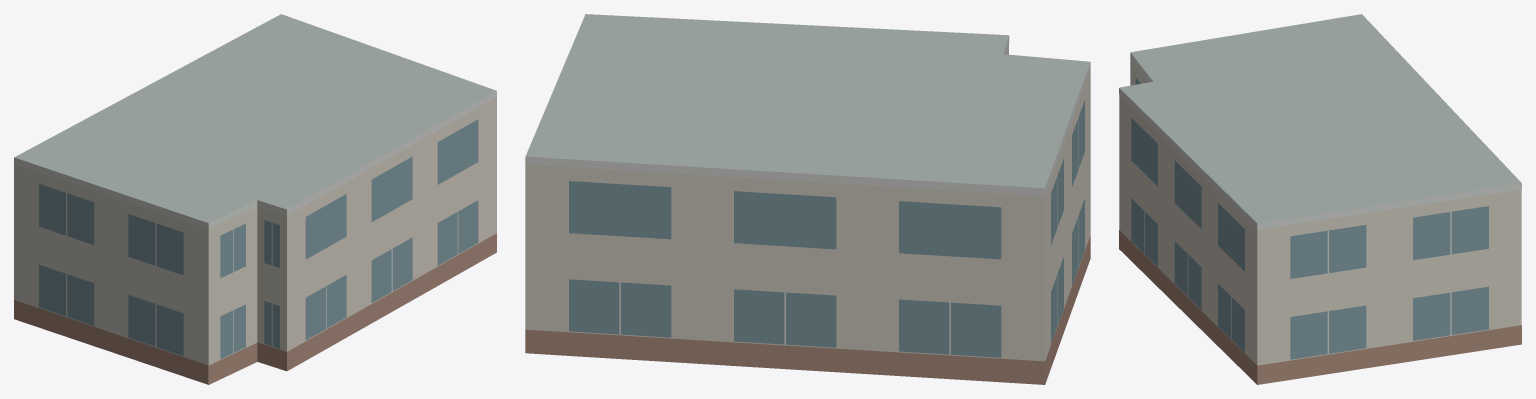
Rendered from survey-upis-32947830.glb.
The picture shows the model from 3 angles, left to right: view 1: azimuth 30°, elevation 25°; view 2: azimuth 150°, elevation 25°; view 3: azimuth 270°, elevation 25°; orthographic projection. The views are drawn at different scales.
Visible parts, largest first — view 1: survey-upis-32947830.tmp; view 2: survey-upis-32947830.tmp; view 3: survey-upis-32947830.tmp.
Boxes of the visible parts, left/top/right/bottom form: survey-upis-32947830.tmp: left=14, top=14, right=496, bottom=384; survey-upis-32947830.tmp: left=525, top=14, right=1090, bottom=384; survey-upis-32947830.tmp: left=1119, top=14, right=1521, bottom=384.
Size of the model in its own units: 17 by 6.1 by 13.81.
